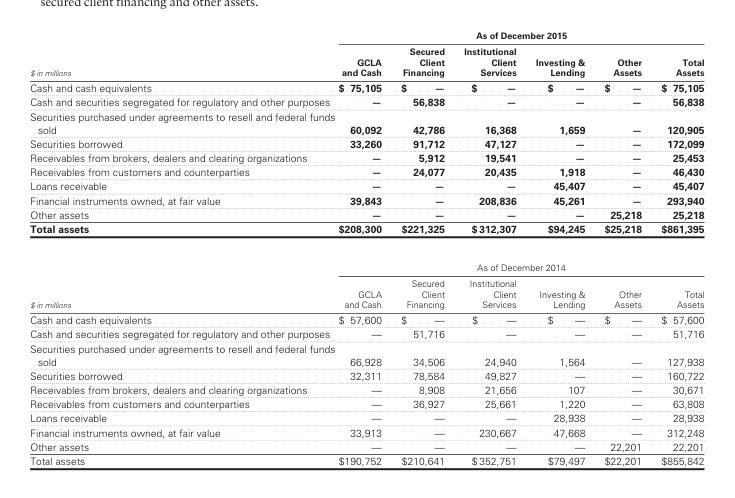table: (29, 29, 703, 466)
table column: (29, 29, 336, 466), (453, 29, 525, 466), (525, 29, 594, 466), (390, 29, 453, 466), (594, 29, 650, 466), (336, 29, 390, 466), (650, 29, 703, 466)
table column header: (29, 29, 703, 79)
table row: (29, 42, 703, 79), (29, 274, 703, 311), (29, 108, 703, 136), (29, 247, 703, 274), (29, 340, 703, 367), (29, 221, 703, 247), (29, 79, 703, 94), (29, 192, 703, 207), (29, 311, 703, 326), (29, 367, 703, 382), (29, 424, 703, 439), (29, 94, 703, 108), (29, 136, 703, 150), (29, 150, 703, 164), (29, 164, 703, 178), (29, 178, 703, 192), (29, 207, 703, 221), (29, 326, 703, 340), (29, 382, 703, 396), (29, 396, 703, 410), (29, 410, 703, 424), (29, 439, 703, 453), (29, 29, 703, 42), (29, 453, 703, 466)
table spanning cell: (29, 29, 336, 79), (336, 247, 703, 274), (336, 29, 703, 42)
